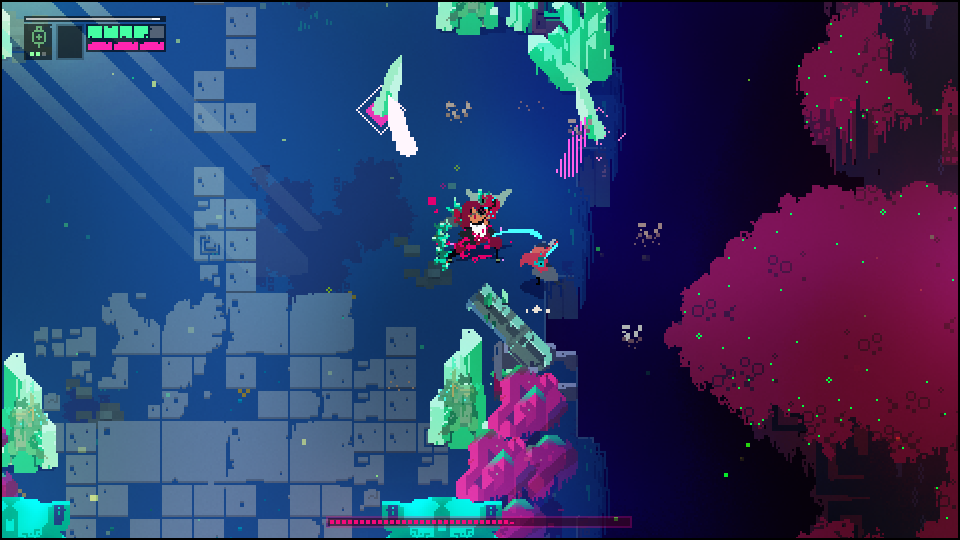hanged_crys: (360, 50, 405, 121), (552, 117, 592, 184), (379, 98, 420, 158), (571, 81, 609, 140)
hanged_man: (431, 180, 519, 276)
player: (489, 226, 564, 290)
